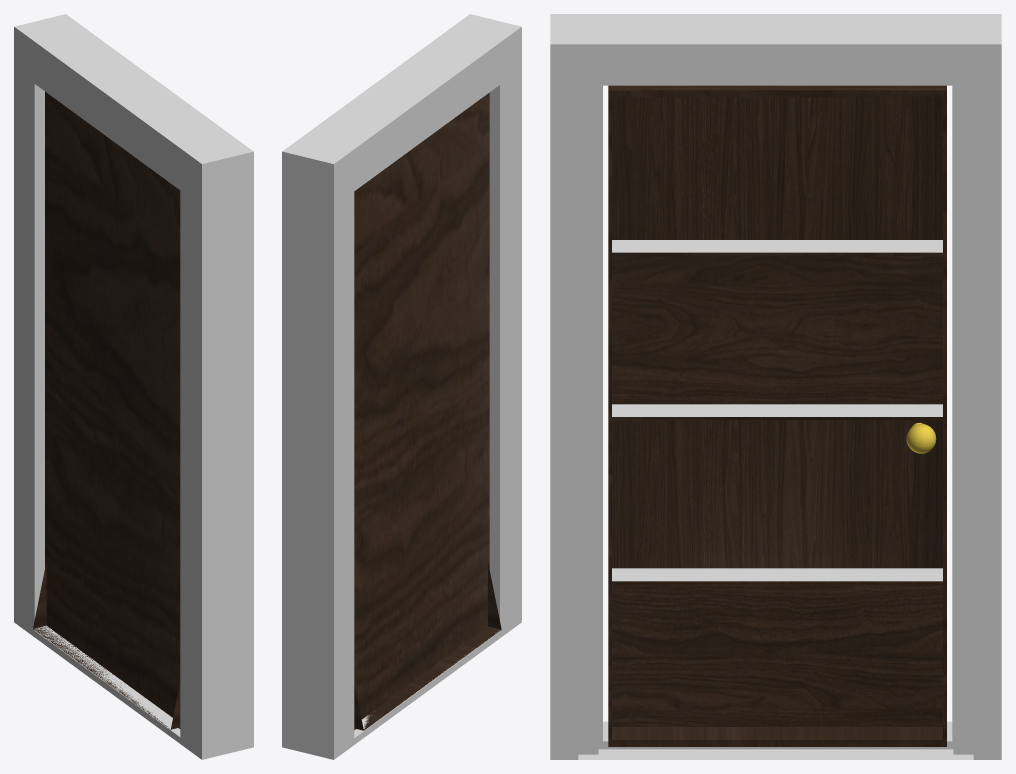
The model's file is Door.fbx.
3 views of the same model, side by side, from view 1: azimuth 30°, elevation 25°; view 2: azimuth 150°, elevation 25°; view 3: azimuth 270°, elevation 25° (orthographic). The views are drawn at different scales.
Parts seen in each view (by area): view 1: Cube, Cube.001; view 2: Cube, Cube.001; view 3: Cube.001, Cube.
Boxes of the visible parts, box(x1,y1,x2,y2) form: Cube: box(14, 14, 253, 759); Cube.001: box(33, 91, 180, 729); Cube: box(282, 14, 521, 759); Cube.001: box(354, 92, 501, 730); Cube.001: box(608, 85, 946, 746); Cube: box(550, 14, 1001, 759).
Bounding box in the file's own units: 43.05 × 393 × 225.
Materials: 5 (1 with a texture image).
